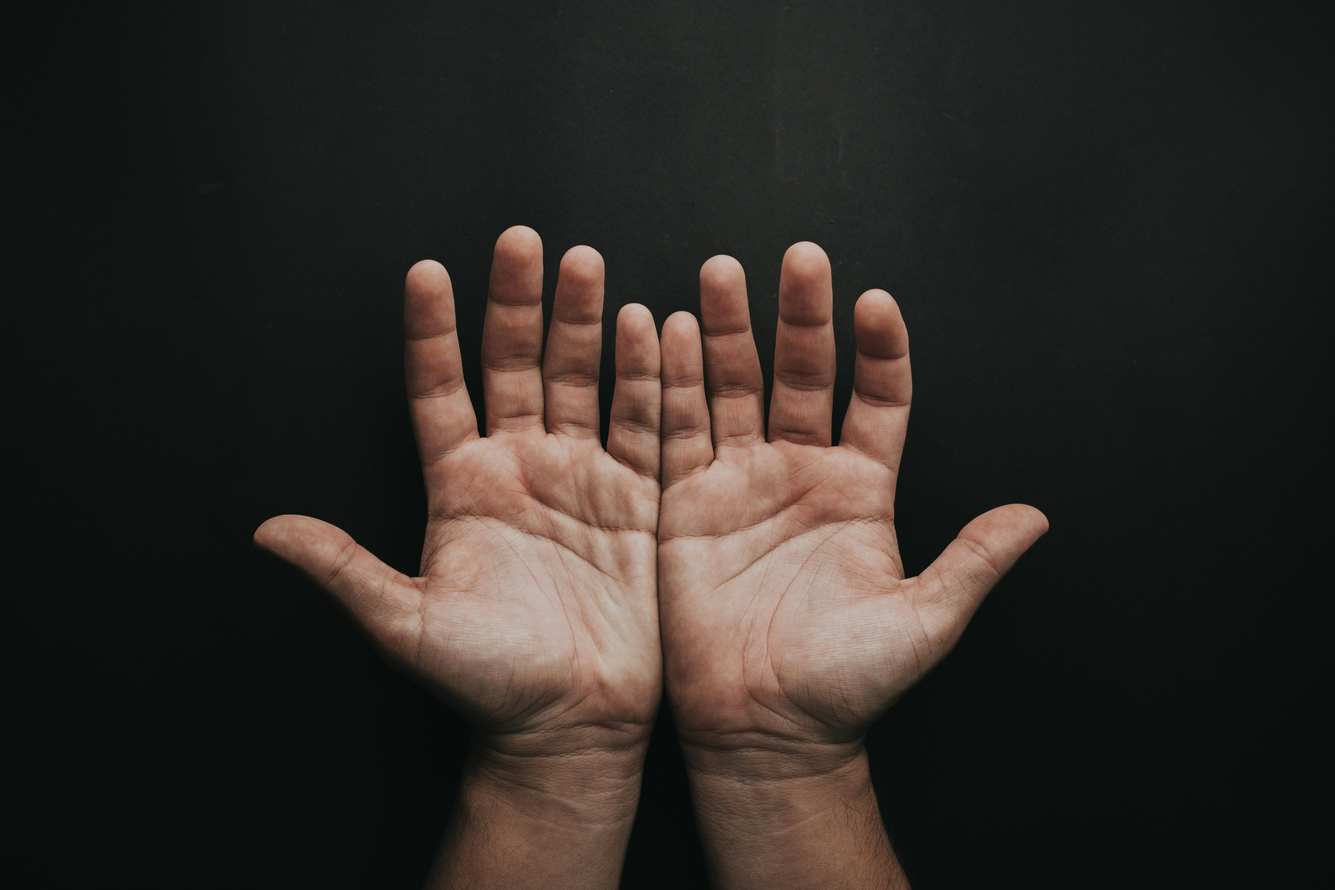family ring: (898, 578, 937, 661), (417, 581, 427, 666)
girdle of venus: (772, 449, 830, 484)
head line: (433, 509, 617, 582), (713, 516, 891, 589)
heart line: (519, 466, 656, 535), (668, 481, 819, 541)
life line: (757, 516, 885, 728), (437, 513, 576, 679)
